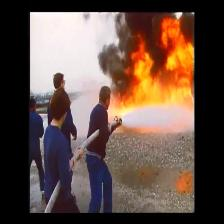fire: (165, 20, 185, 104), (133, 57, 153, 105)
smoke: (124, 14, 153, 51), (103, 49, 121, 74)
